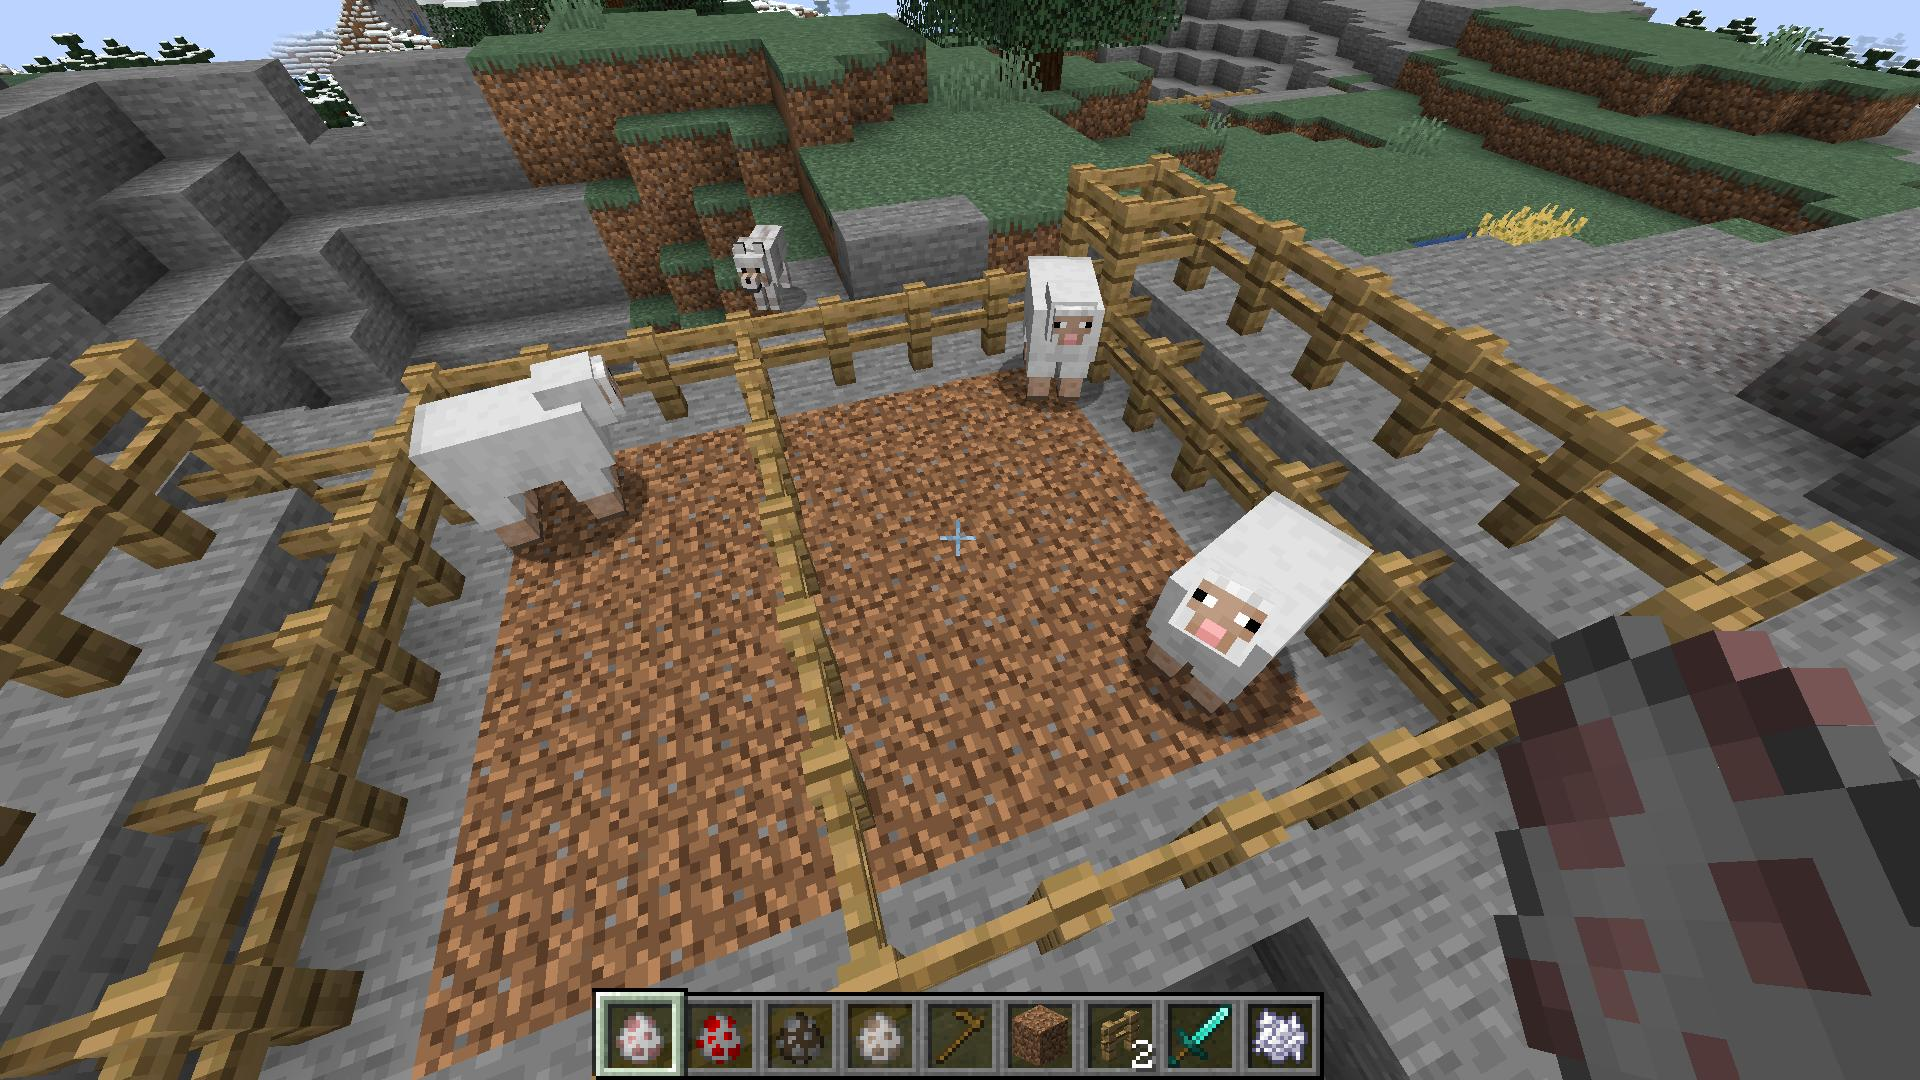sheep: (1139, 485, 1377, 704), (402, 349, 633, 551), (1015, 248, 1108, 401)
wolf: (728, 220, 796, 311)
